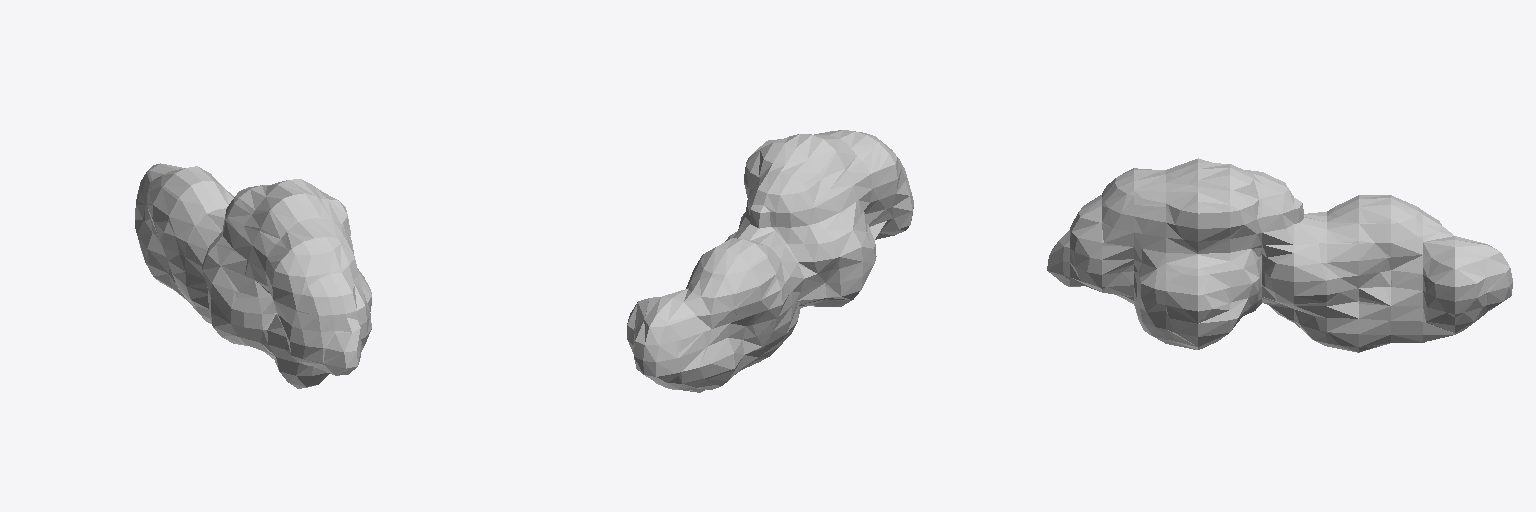
Rendered from 2kho_cms.obj.
The picture shows the model from 3 angles: view 1: azimuth 30°, elevation 25°; view 2: azimuth 150°, elevation 25°; view 3: azimuth 270°, elevation 25°; orthographic projection.
Size of the model in its own units: 54.34 by 68.56 by 157.